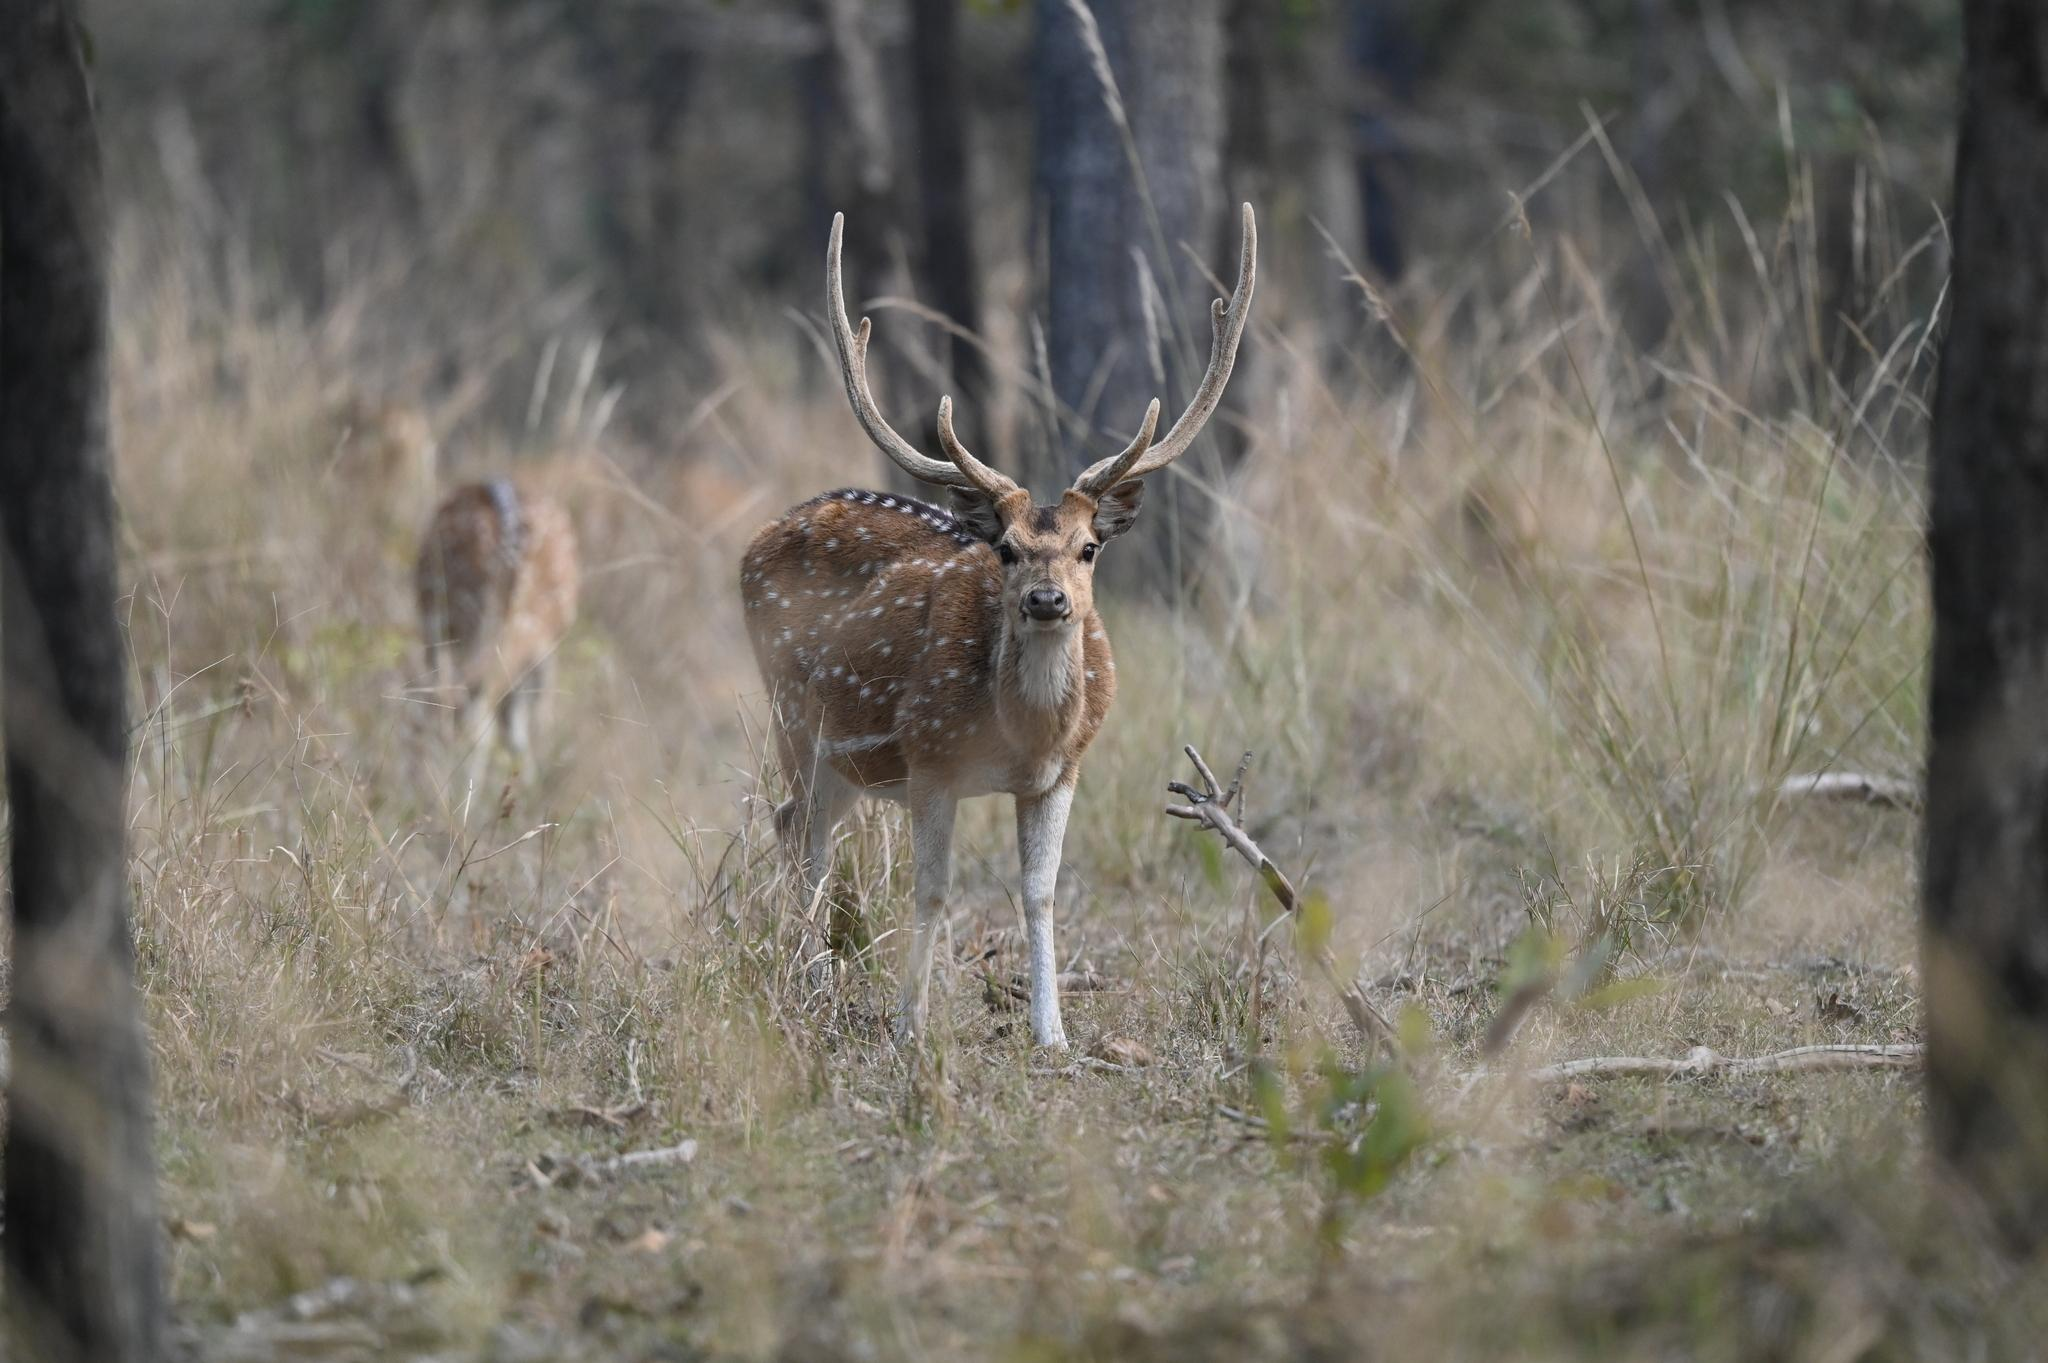Deer: (742, 208, 1254, 1045), (417, 478, 579, 809)
